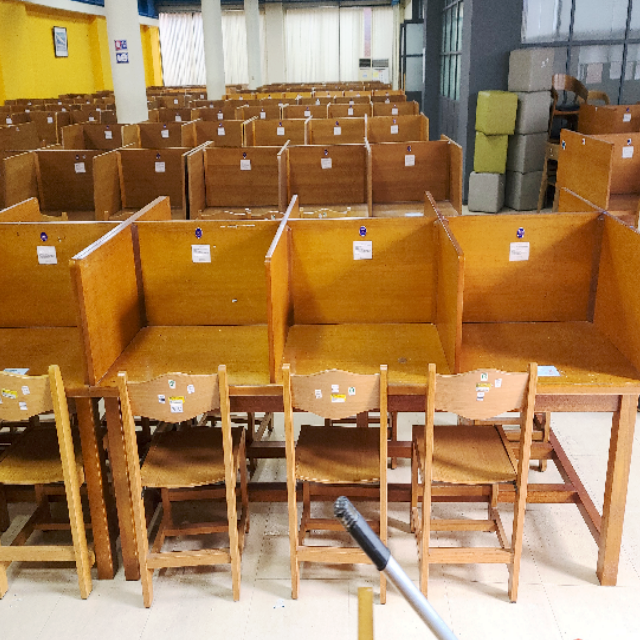empty: (274, 218, 462, 503), (78, 221, 271, 495), (469, 215, 640, 499)
